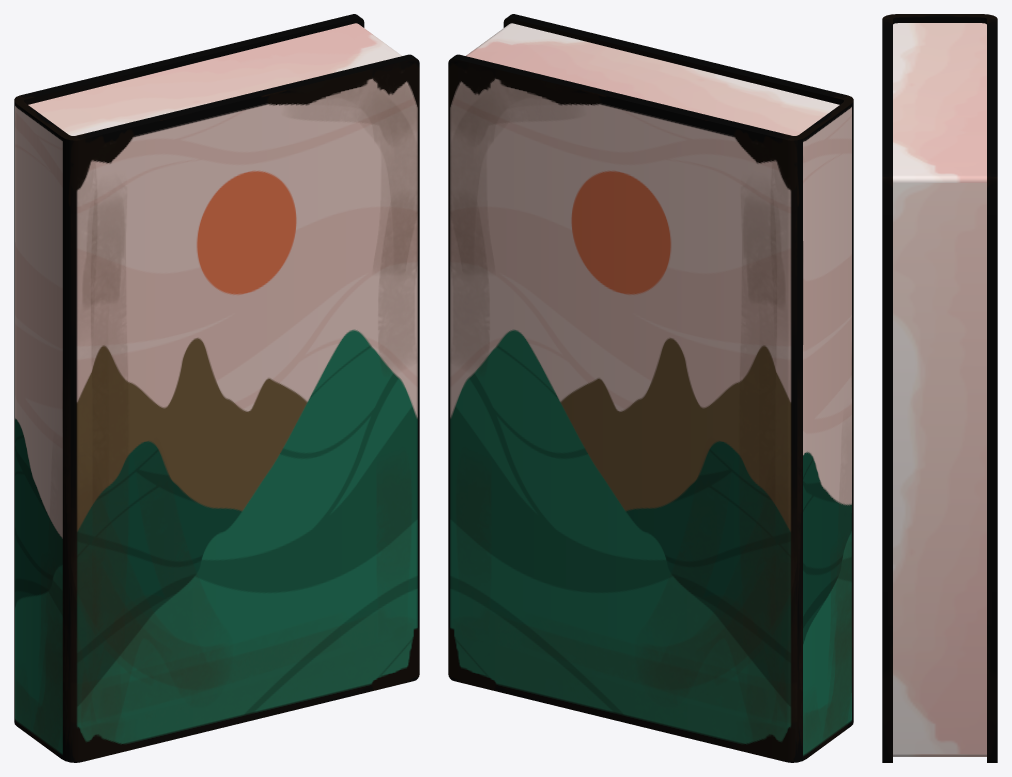
Rendered from SM_Book02.fbx.
The picture shows the model from 3 angles, left to right: view 1: azimuth 30°, elevation 25°; view 2: azimuth 150°, elevation 25°; view 3: azimuth 270°, elevation 25°; orthographic projection. The views are drawn at different scales.
Parts seen in each view (by area): view 1: SM_Book02_LOD0; view 2: SM_Book02_LOD0; view 3: SM_Book02_LOD0.
Part boxes in pixels (<box>): SM_Book02_LOD0: <box>14,14,419,762</box>; SM_Book02_LOD0: <box>448,14,853,762</box>; SM_Book02_LOD0: <box>882,14,997,762</box>.
Bounding box in the file's own units: 20.67 × 6.24 × 35.12.
1 material, 1 textured.
